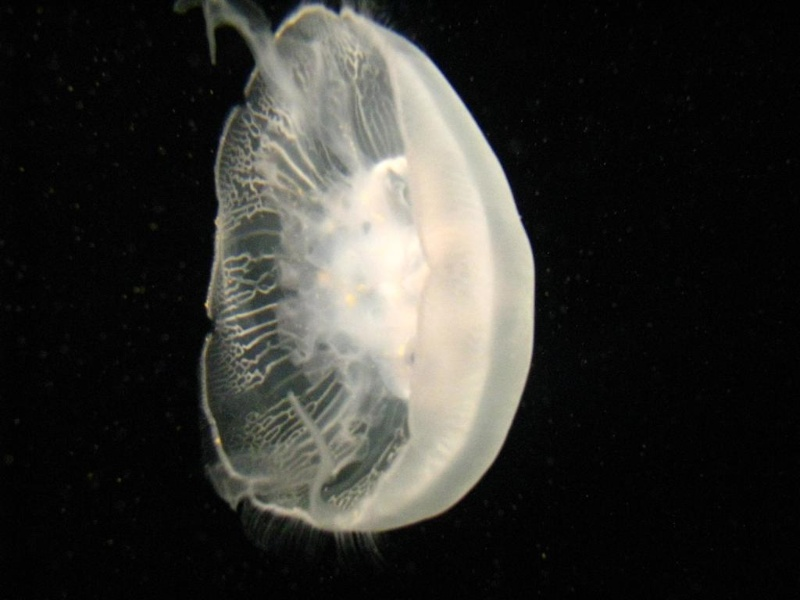Jellyfish: (173, 0, 534, 572)
